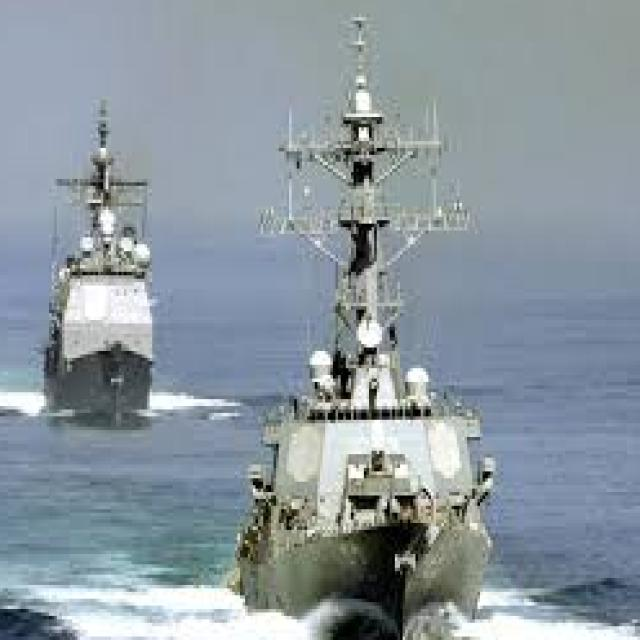navalvessels: (235, 12, 510, 610), (39, 84, 160, 416)
